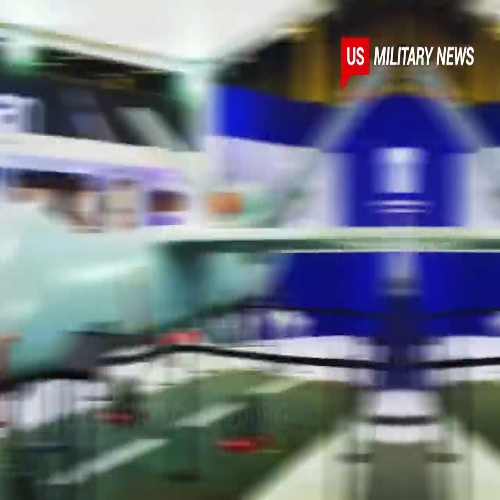uav484: (1, 197, 500, 385)
